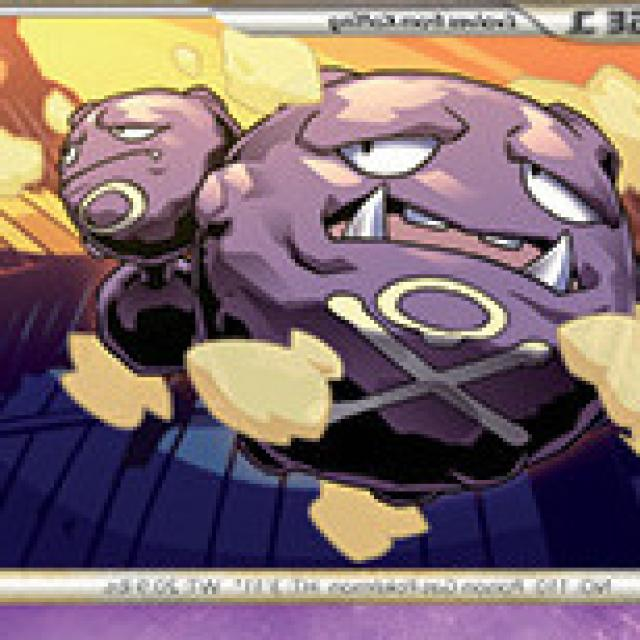Weezing: (48, 68, 640, 499)
